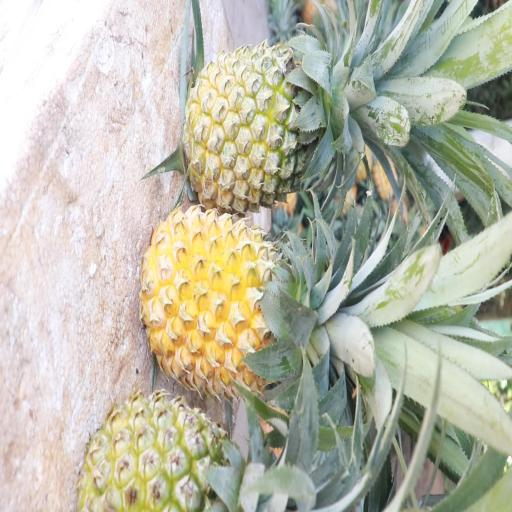------------------------------: (186, 46, 342, 202), (87, 398, 247, 512)
Pineapple - v8 v1: (139, 209, 315, 388)
